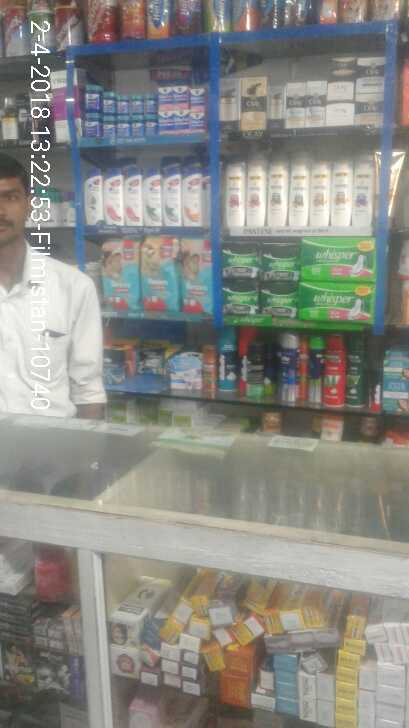vicks: (80, 84, 210, 131)
